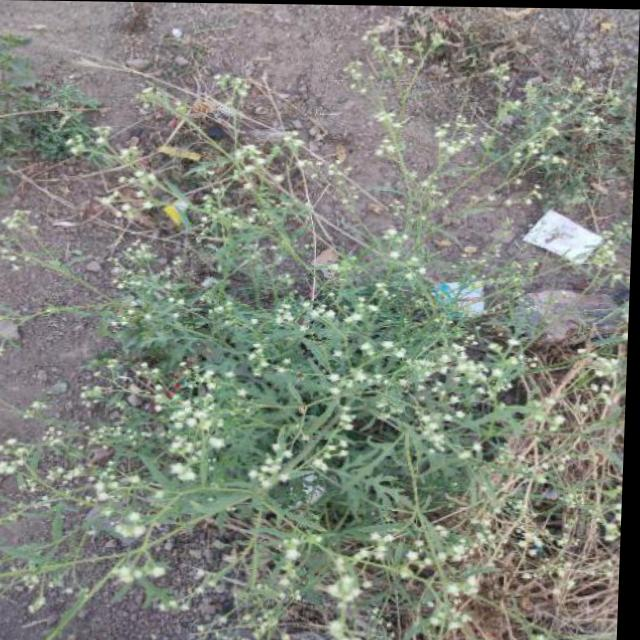weed: (0, 64, 638, 640)
